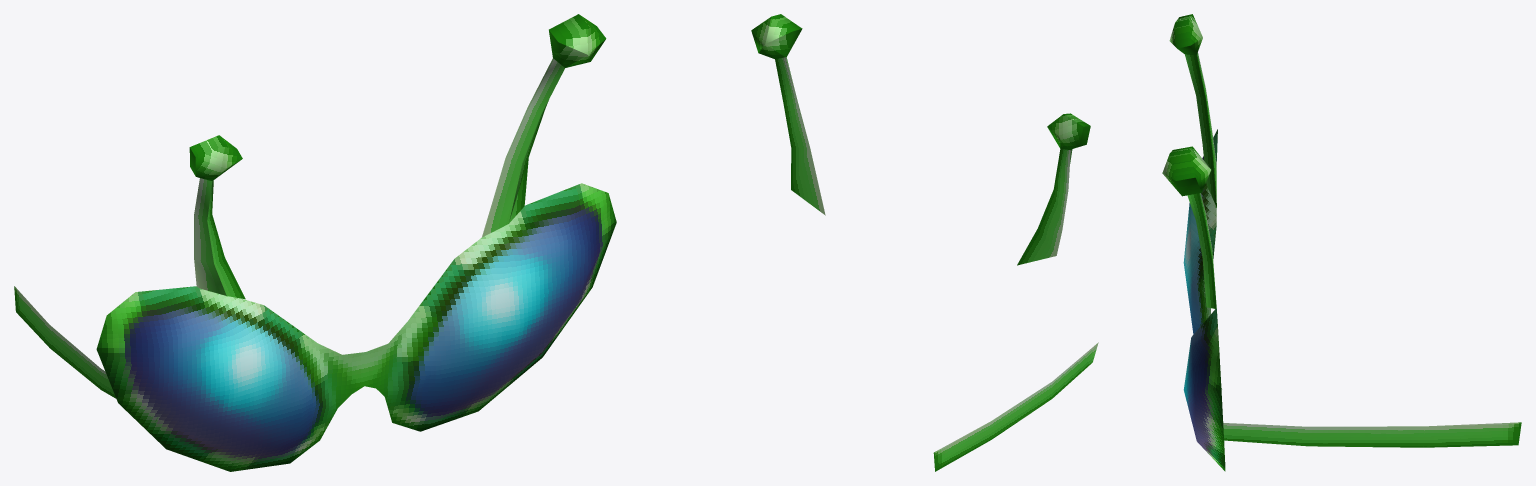
File: tt_m_chr_avt_acc_msk_monoalienGlasses.glb
3 renders of one model, left to right at view 1: azimuth 30°, elevation 25°; view 2: azimuth 150°, elevation 25°; view 3: azimuth 270°, elevation 25°, orthographic. The views are drawn at different scales.
Visible parts, largest first — view 1: alienGlasses; view 2: alienGlasses; view 3: alienGlasses.
Boxes of the visible parts, x1,y1,x2,y2 form: alienGlasses: (14,14,616,471); alienGlasses: (751,14,1098,471); alienGlasses: (1162,14,1521,471).
Bounding box in the file's own units: 4.71 × 3.44 × 3.09.
Materials: 1 (1 with a texture image).
